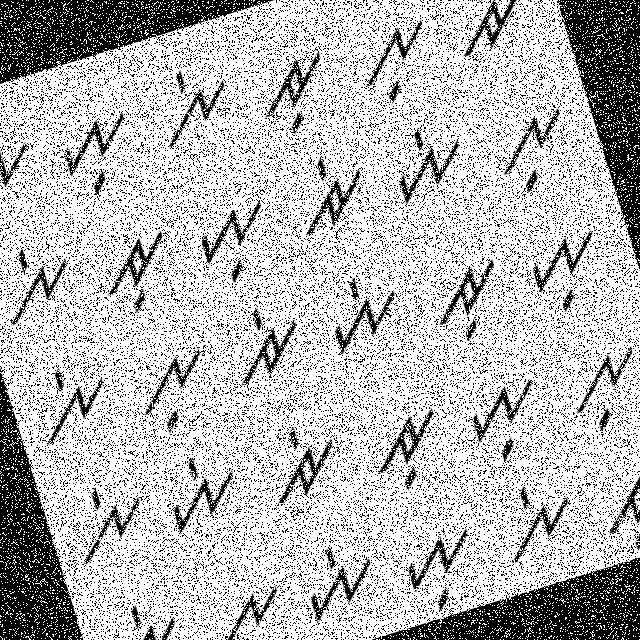le: (145, 48, 249, 160), (486, 467, 586, 572), (54, 468, 154, 570), (0, 228, 90, 334), (22, 354, 119, 450)
lu: (339, 7, 447, 115), (486, 94, 586, 199), (125, 336, 224, 438), (556, 335, 639, 443), (197, 570, 303, 639)
re: (252, 408, 352, 512), (282, 144, 378, 244), (218, 296, 314, 395), (441, 0, 535, 62), (92, 588, 194, 639)
ru: (356, 396, 458, 502), (417, 248, 518, 354), (88, 218, 186, 322), (250, 40, 344, 141), (582, 456, 639, 561)
ye: (289, 532, 386, 634), (313, 264, 411, 364), (378, 116, 476, 212), (155, 444, 249, 537), (0, 108, 44, 208)
yu: (450, 363, 563, 470), (45, 100, 154, 208), (514, 216, 622, 323), (388, 518, 492, 623), (185, 186, 284, 290)
